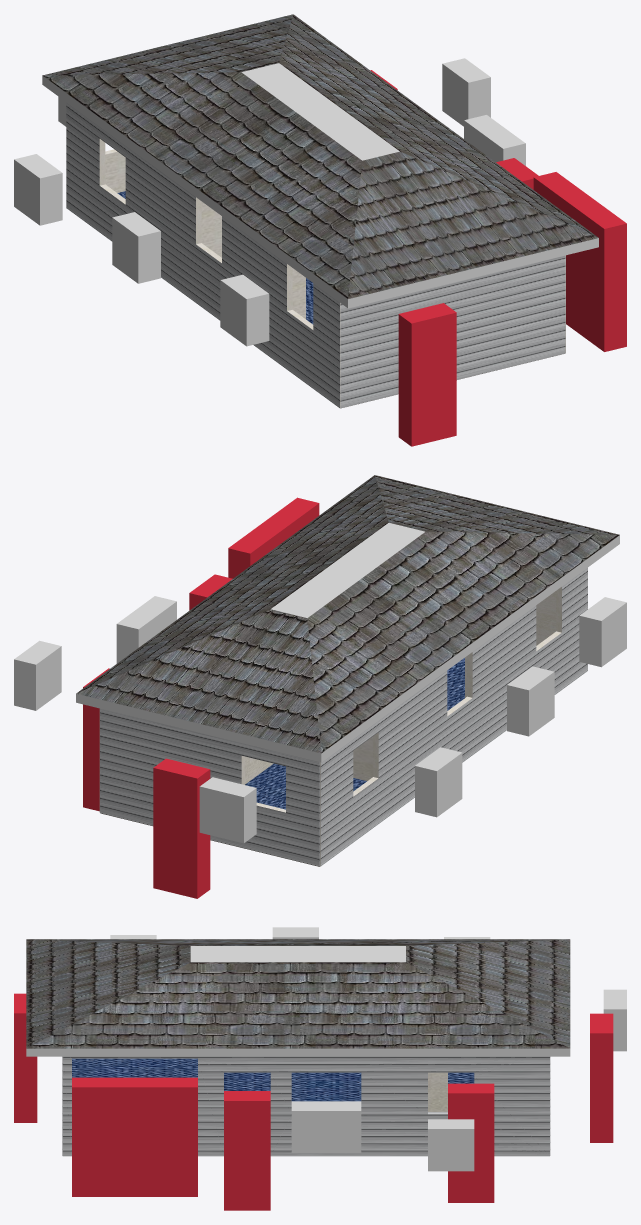
The model's file is house.fbx.
3 renders of one model, top to bottom at view 1: azimuth 30°, elevation 25°; view 2: azimuth 150°, elevation 25°; view 3: azimuth 270°, elevation 25°, orthographic. The views are drawn at different scales.
Parts seen in each view (by area): view 1: Cube.019, Cube.003, Cube.007, Cube.010, Cube.012, Cube.018, Cube.016, Cube.014, Cube.013, Cube.017, Cube.005, Cube.002 (+1 smaller); view 2: Cube.019, Cube.003, Cube.002, Cube.008, Cube.015, Cube.010, Cube.016, Cube.014, Cube.013, Cube.018, Cube.017, Cube (+4 smaller); view 3: Cube.019, Cube.004, Cube.010, Cube, Cube.009, Cube.011, Cube.017, Cube.008, Cube.013, Cube.012, Cube.015, Cube.006 (+1 smaller).
Boxes of the visible parts, x1=… form: Cube.019: x1=42, y1=14, x2=598, y2=308; Cube.003: x1=66, y1=102, x2=340, y2=407; Cube.007: x1=340, y1=255, x2=565, y2=408; Cube.010: x1=533, y1=172, x2=626, y2=351; Cube.012: x1=398, y1=303, x2=456, y2=446; Cube.018: x1=220, y1=274, x2=269, y2=346; Cube.016: x1=112, y1=212, x2=160, y2=283; Cube.014: x1=14, y1=154, x2=62, y2=225; Cube.013: x1=442, y1=58, x2=490, y2=126; Cube.017: x1=464, y1=115, x2=525, y2=165; Cube.005: x1=201, y1=201, x2=221, y2=257; Cube.002: x1=105, y1=149, x2=125, y2=192; Cube.019: x1=76, y1=475, x2=619, y2=762; Cube.003: x1=320, y1=567, x2=587, y2=866; Cube.002: x1=100, y1=708, x2=319, y2=866; Cube.008: x1=153, y1=758, x2=210, y2=898; Cube.015: x1=199, y1=777, x2=256, y2=843; Cube.010: x1=228, y1=497, x2=319, y2=578; Cube.016: x1=507, y1=666, x2=554, y2=736; Cube.014: x1=415, y1=747, x2=462, y2=817; Cube.013: x1=14, y1=640, x2=61, y2=710; Cube.018: x1=579, y1=597, x2=626, y2=667; Cube.017: x1=116, y1=596, x2=176, y2=663; Cube: x1=101, y1=658, x2=464, y2=866; Cube.019: x1=26, y1=939, x2=570, y2=1056; Cube.004: x1=62, y1=1056, x2=549, y2=1156; Cube.010: x1=72, y1=1077, x2=197, y2=1196; Cube: x1=72, y1=1058, x2=474, y2=1101; Cube.009: x1=224, y1=1091, x2=270, y2=1210; Cube.011: x1=448, y1=1083, x2=494, y2=1202; Cube.017: x1=291, y1=1101, x2=361, y2=1152; Cube.008: x1=590, y1=1013, x2=613, y2=1142; Cube.013: x1=428, y1=1119, x2=474, y2=1171; Cube.012: x1=14, y1=993, x2=37, y2=1122; Cube.015: x1=603, y1=989, x2=626, y2=1051; Cube.006: x1=428, y1=1072, x2=447, y2=1111.
Size of the model in its own units: 3912 by 1701 by 5279.
Materials: 12 (5 with a texture image).
